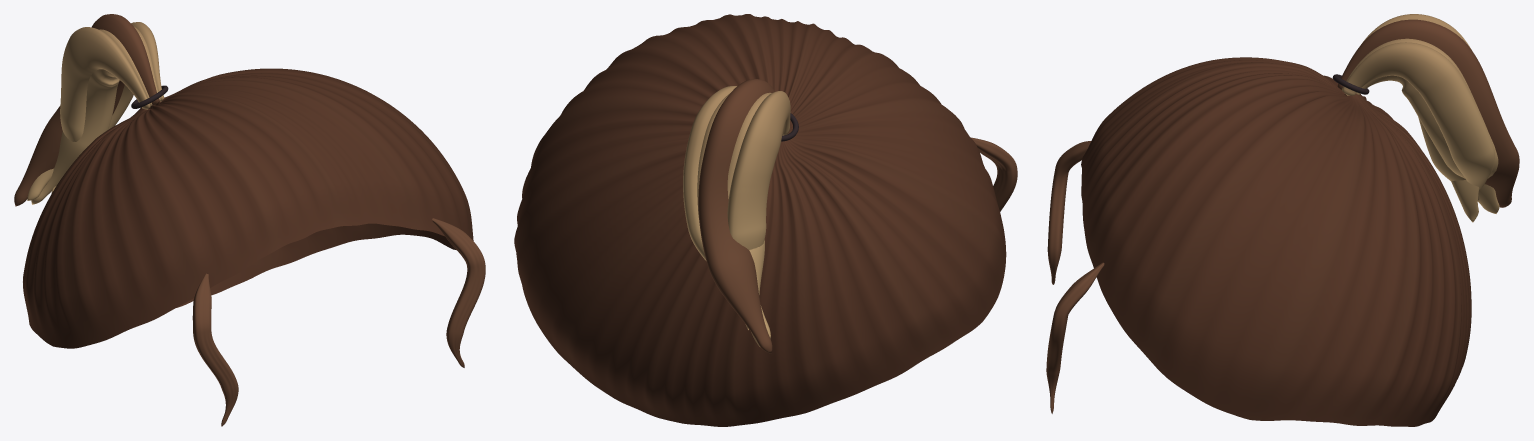
Rendered from Highlights-764dfc05363c251-hair.glb.
3 views of the same model, side by side, from view 1: azimuth 30°, elevation 25°; view 2: azimuth 150°, elevation 25°; view 3: azimuth 270°, elevation 25° (orthographic). The views are drawn at different scales.
Parts seen in each view (by area): view 1: Hair / swept roots220, Hair / rounded tail220 0, Hair / rounded tail220 2, Hair / rounded tail220 1, Hair / adjustable front216 1, Hair / adjustable front216 -1, Hair / rounded tail220 3, Hair / rounded tail220 4; view 2: Hair / swept roots220, Hair / rounded tail220 2, Hair / rounded tail220 0, Hair / rounded tail220 4, Hair / adjustable front216 -1, Hair / rounded tail220 1, Hair / rounded tail220 3; view 3: Hair / swept roots220, Hair / rounded tail220 4, Hair / rounded tail220 2, Hair / rounded tail220 3, Hair / adjustable front216 -1, Hair / adjustable front216 1, Hair / rounded tail220 0, Hair / rounded tail220 1.
Boxes of the visible parts, x1,y1,x2,y2 form: Hair / swept roots220: (23, 68, 473, 348); Hair / rounded tail220 0: (60, 27, 150, 141); Hair / rounded tail220 2: (14, 14, 159, 206); Hair / rounded tail220 1: (31, 29, 152, 204); Hair / adjustable front216 1: (432, 218, 485, 367); Hair / adjustable front216 -1: (192, 273, 238, 426); Hair / rounded tail220 3: (27, 26, 160, 200); Hair / rounded tail220 4: (51, 22, 164, 193); Hair / swept roots220: (514, 14, 1006, 426); Hair / rounded tail220 2: (698, 79, 774, 353); Hair / rounded tail220 0: (727, 91, 790, 329); Hair / rounded tail220 4: (683, 86, 736, 260); Hair / adjustable front216 -1: (971, 137, 1017, 211); Hair / rounded tail220 1: (727, 92, 782, 346); Hair / rounded tail220 3: (697, 93, 770, 338); Hair / swept roots220: (1081, 57, 1471, 426); Hair / rounded tail220 4: (1342, 42, 1494, 200); Hair / rounded tail220 2: (1337, 19, 1519, 207); Hair / rounded tail220 3: (1342, 38, 1498, 178); Hair / adjustable front216 -1: (1047, 141, 1091, 284); Hair / adjustable front216 1: (1046, 262, 1104, 413); Hair / rounded tail220 0: (1361, 14, 1479, 222); Hair / rounded tail220 1: (1418, 117, 1499, 213).
Size of the model in its own units: 0.9675 by 0.7217 by 0.8977.
